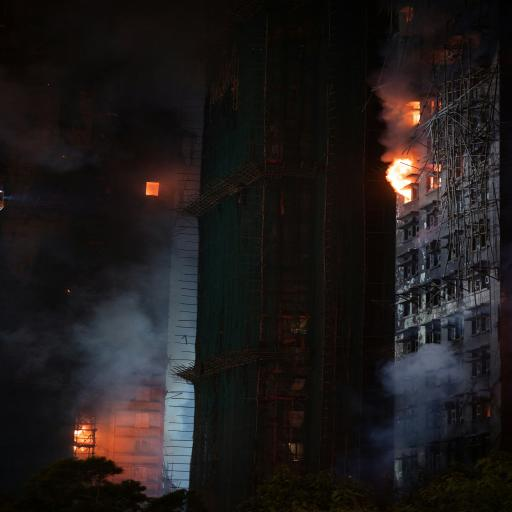buildingfire: (0, 66, 277, 512), (346, 17, 512, 318)
